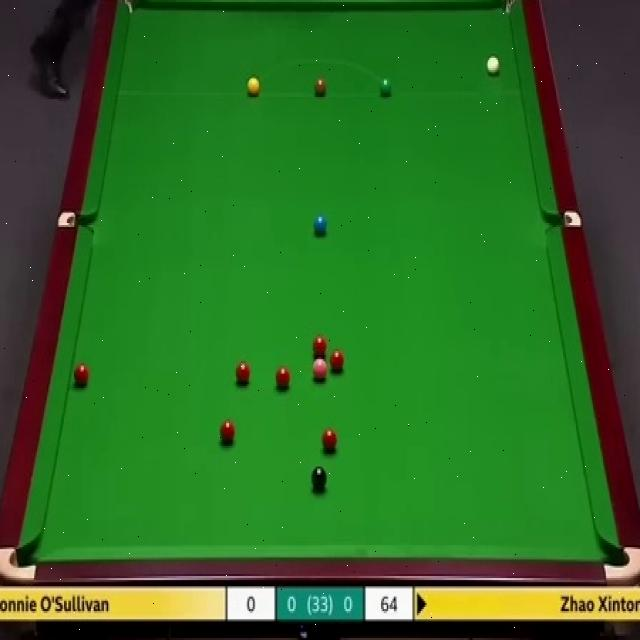black-ball: (310, 466, 328, 491)
blue-ball: (315, 216, 328, 239)
brown-ball: (314, 79, 327, 97)
green-ball: (380, 77, 392, 97)
pink-ball: (311, 356, 328, 383)
red-ball: (220, 419, 237, 448), (72, 362, 90, 387), (322, 427, 339, 453), (312, 332, 328, 359), (329, 348, 345, 373), (275, 365, 290, 390), (236, 362, 251, 386)
white-ball: (486, 52, 501, 76)
yellow-ball: (245, 76, 260, 98)
